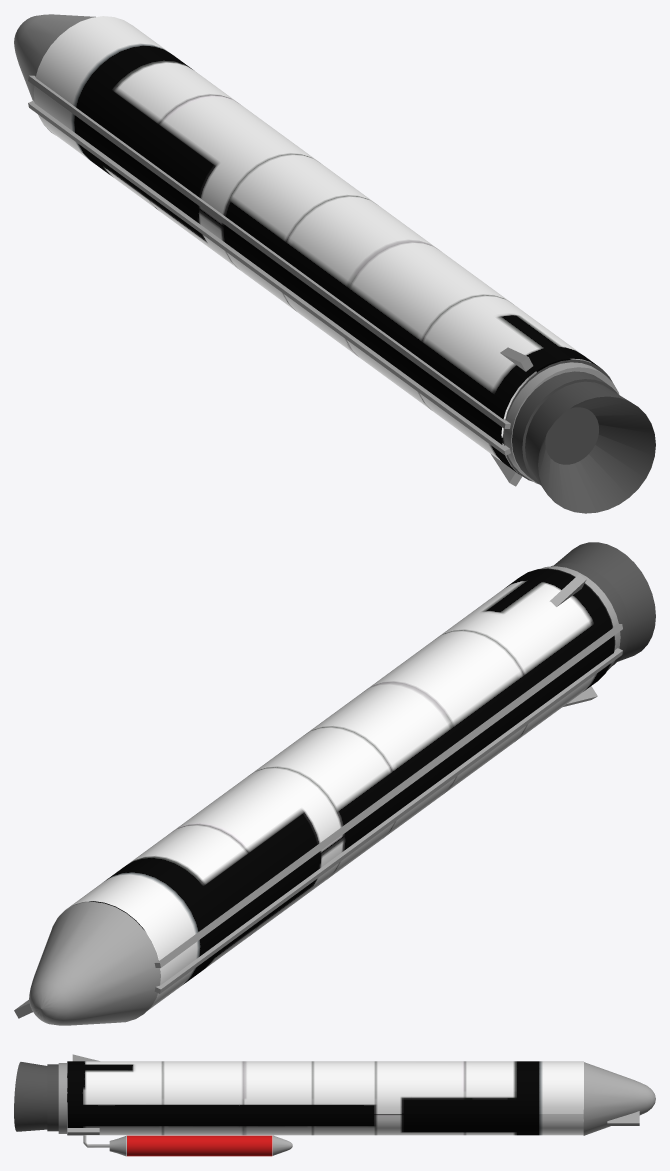
3 views of the same model, one above another, from view 1: azimuth 30°, elevation 25°; view 2: azimuth 150°, elevation 25°; view 3: azimuth 270°, elevation 25° (orthographic). The views are drawn at different scales.
Visible parts, largest first — view 1: group0, group12, group11, group13, group2, group6; view 2: group0, group2, group11, group12, group13; view 3: group0, group2, group1, group12, group13, group6, group9, group3, group4, group8.
Boxes of the visible parts, x1=… form: group0: x1=33, y1=16, x2=599, y2=474; group12: x1=503, y1=359, x2=655, y2=513; group11: x1=28, y1=75, x2=510, y2=455; group13: x1=512, y1=371, x2=618, y2=484; group2: x1=14, y1=14, x2=95, y2=135; group6: x1=504, y1=362, x2=619, y2=484; group0: x1=52, y1=569, x2=614, y2=1010; group2: x1=29, y1=902, x2=160, y2=1025; group11: x1=154, y1=624, x2=622, y2=993; group12: x1=527, y1=542, x2=655, y2=673; group13: x1=551, y1=563, x2=629, y2=665; group0: x1=67, y1=1061, x2=583, y2=1135; group2: x1=583, y1=1062, x2=655, y2=1135; group1: x1=127, y1=1135, x2=272, y2=1156; group12: x1=14, y1=1062, x2=67, y2=1131; group13: x1=47, y1=1064, x2=58, y2=1131; group6: x1=58, y1=1063, x2=66, y2=1133; group9: x1=607, y1=1111, x2=639, y2=1125; group3: x1=272, y1=1135, x2=292, y2=1155; group4: x1=109, y1=1135, x2=126, y2=1156; group8: x1=67, y1=1128, x2=99, y2=1134.
Bounding box in the file's own units: 3.24 × 3.83 × 26.99.
Materials: 4 (1 with a texture image).
